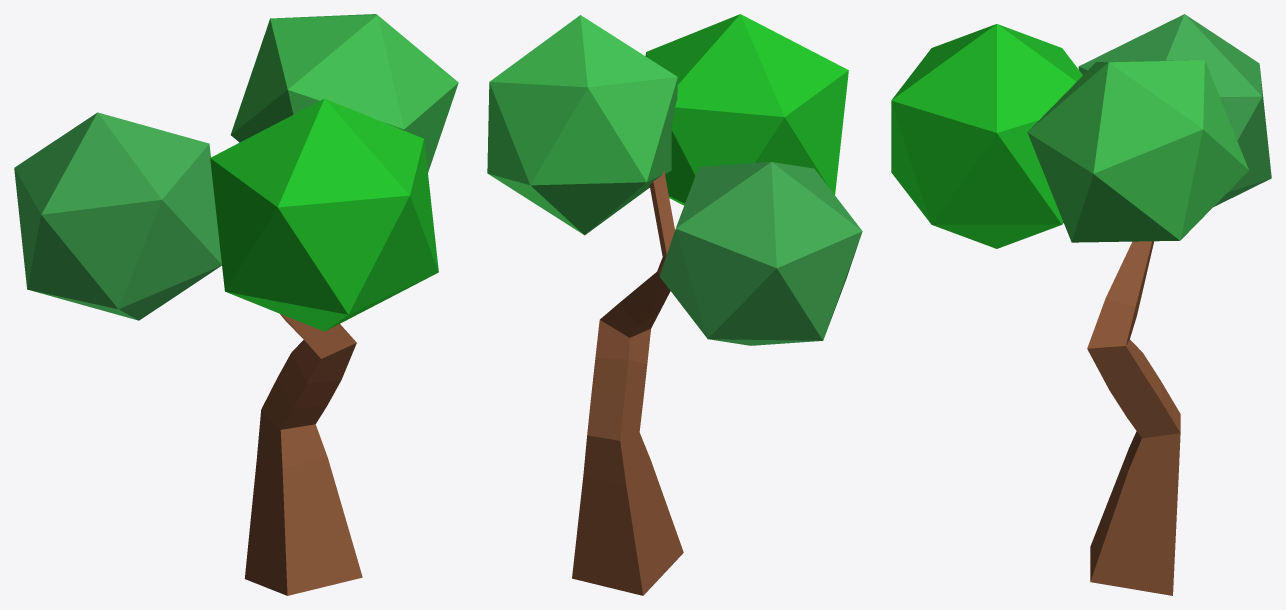
The model's file is Tree1.fbx.
3 views of the same model, side by side, from view 1: azimuth 30°, elevation 25°; view 2: azimuth 150°, elevation 25°; view 3: azimuth 270°, elevation 25° (orthographic). The views are drawn at different scales.
Visible parts, largest first — view 1: Icosphere, Icosphere.002, Cube, Icosphere.001; view 2: Icosphere.001, Icosphere.002, Icosphere, Cube; view 3: Icosphere.001, Icosphere, Cube, Icosphere.002.
Boxes of the visible parts, box(x1,y1,x2,y2) form: Icosphere: box(210, 98, 438, 331); Icosphere.002: box(14, 112, 221, 320); Cube: box(244, 314, 362, 595); Icosphere.001: box(230, 14, 458, 172); Icosphere.001: box(487, 15, 677, 235); Icosphere.002: box(659, 162, 862, 345); Icosphere: box(645, 14, 848, 205); Cube: box(572, 170, 683, 595); Icosphere.001: box(1027, 60, 1248, 242); Icosphere: box(891, 24, 1082, 248); Cube: box(1087, 241, 1180, 595); Icosphere.002: box(1078, 14, 1271, 206).
Bounding box in the file's own units: 5.57 × 7.69 × 4.87.
